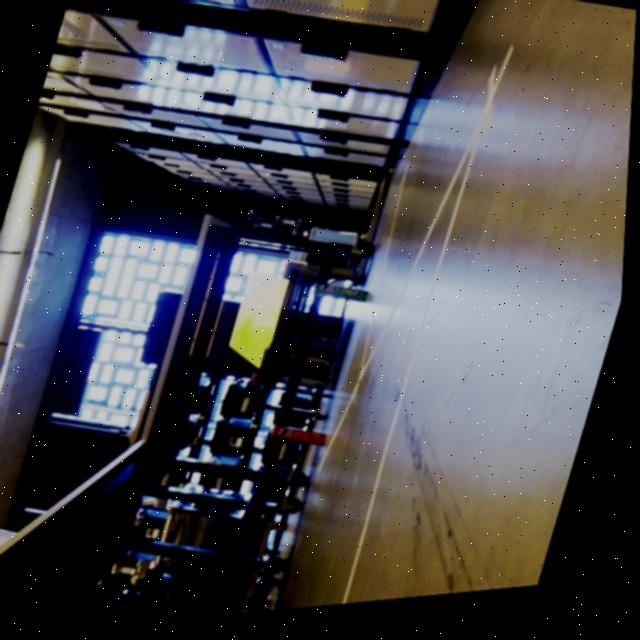greenpringles: (297, 270, 385, 335)
redpringles: (267, 417, 338, 464)
